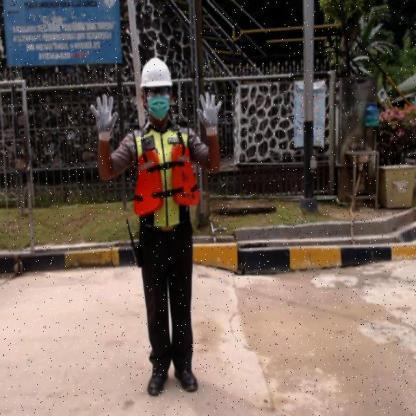boots: (144, 362, 170, 398), (172, 363, 202, 394)
gloves: (88, 92, 119, 144), (196, 91, 224, 139)
goggles: (147, 87, 170, 96)
helmet: (140, 54, 174, 88)
mask: (147, 98, 169, 120)
vest: (132, 142, 202, 218)
